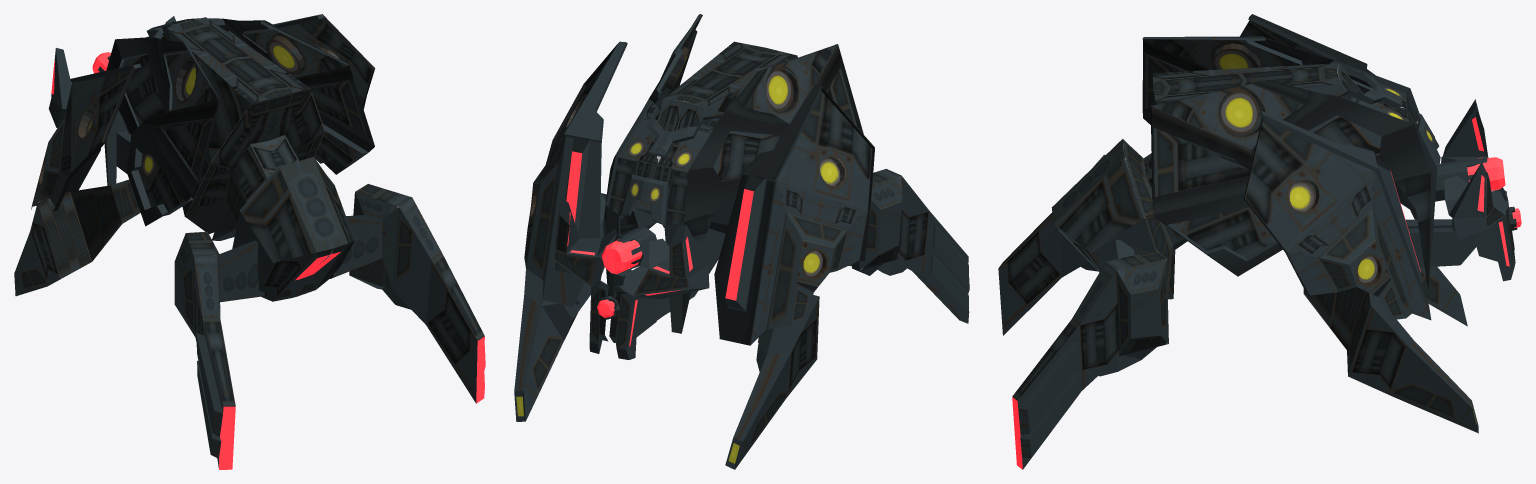
3 views of the same model, side by side, from view 1: azimuth 30°, elevation 25°; view 2: azimuth 150°, elevation 25°; view 3: azimuth 270°, elevation 25° (orthographic). The views are drawn at different scales.
Visible parts, largest first — view 1: Go; view 2: Go; view 3: Go.
Boxes of the visible parts, <box> form: Go: <box>14,14,485,469</box>; Go: <box>514,14,969,469</box>; Go: <box>998,14,1521,469</box>.
Bounding box in the file's own units: 726 × 517 × 533.
3 materials, 2 textured.
